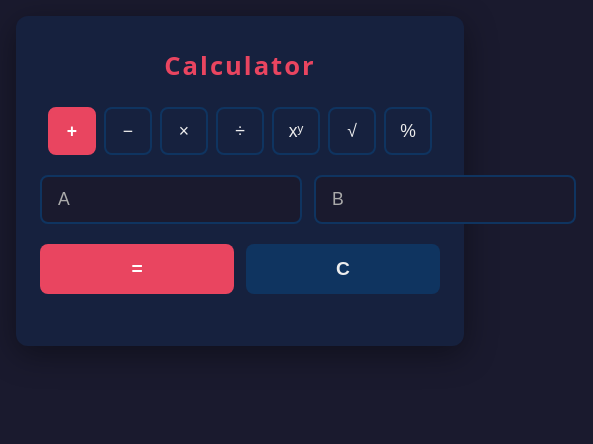
Calculator › clears inputs and result on C click
The width and height of the screenshot is (593, 444).
Step 1. Type "6" into the number field named "operand-a" → [171, 200], box [40, 175, 302, 224]
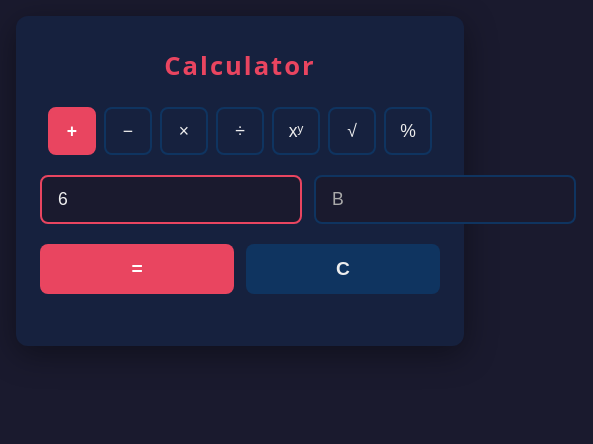
Step 2. Type "7" into the number field named "operand-b" → [445, 200], box [314, 175, 576, 224]
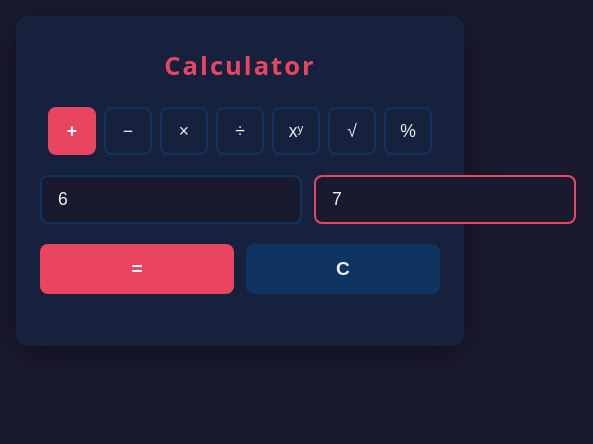
Step 3. Click the button "=" → [137, 269], box [40, 244, 234, 294]
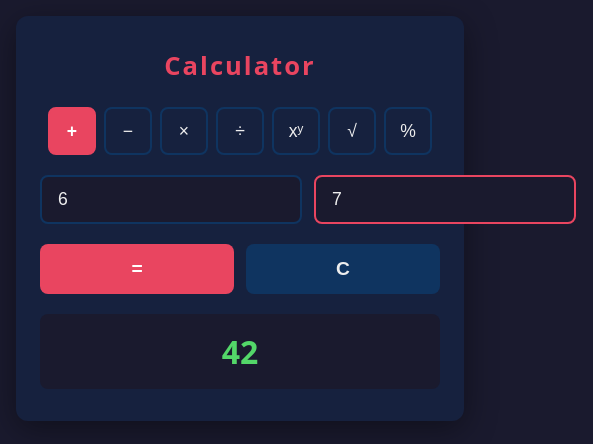
Expected: the text "42" is shown, [40, 314, 440, 389]
Step 4. Click the button "C" → [343, 269], box [246, 244, 440, 294]
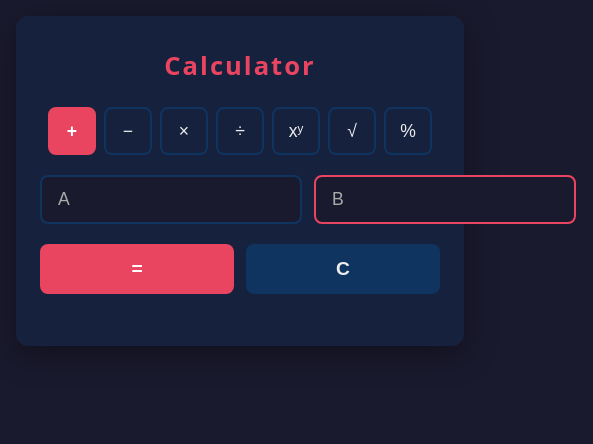
Expected: the text with test id "result" is gone
Expected: the number field named "operand-a" is not empty, [40, 175, 302, 224]
Expected: the number field named "operand-b" is not empty, [314, 175, 576, 224]
